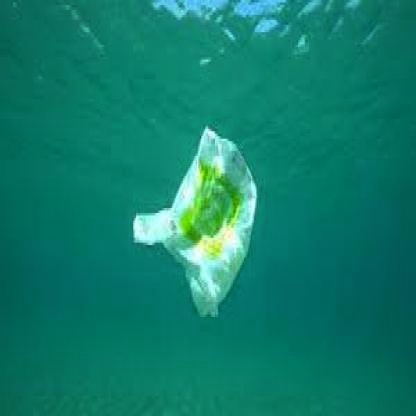pbag: (132, 124, 256, 322)
